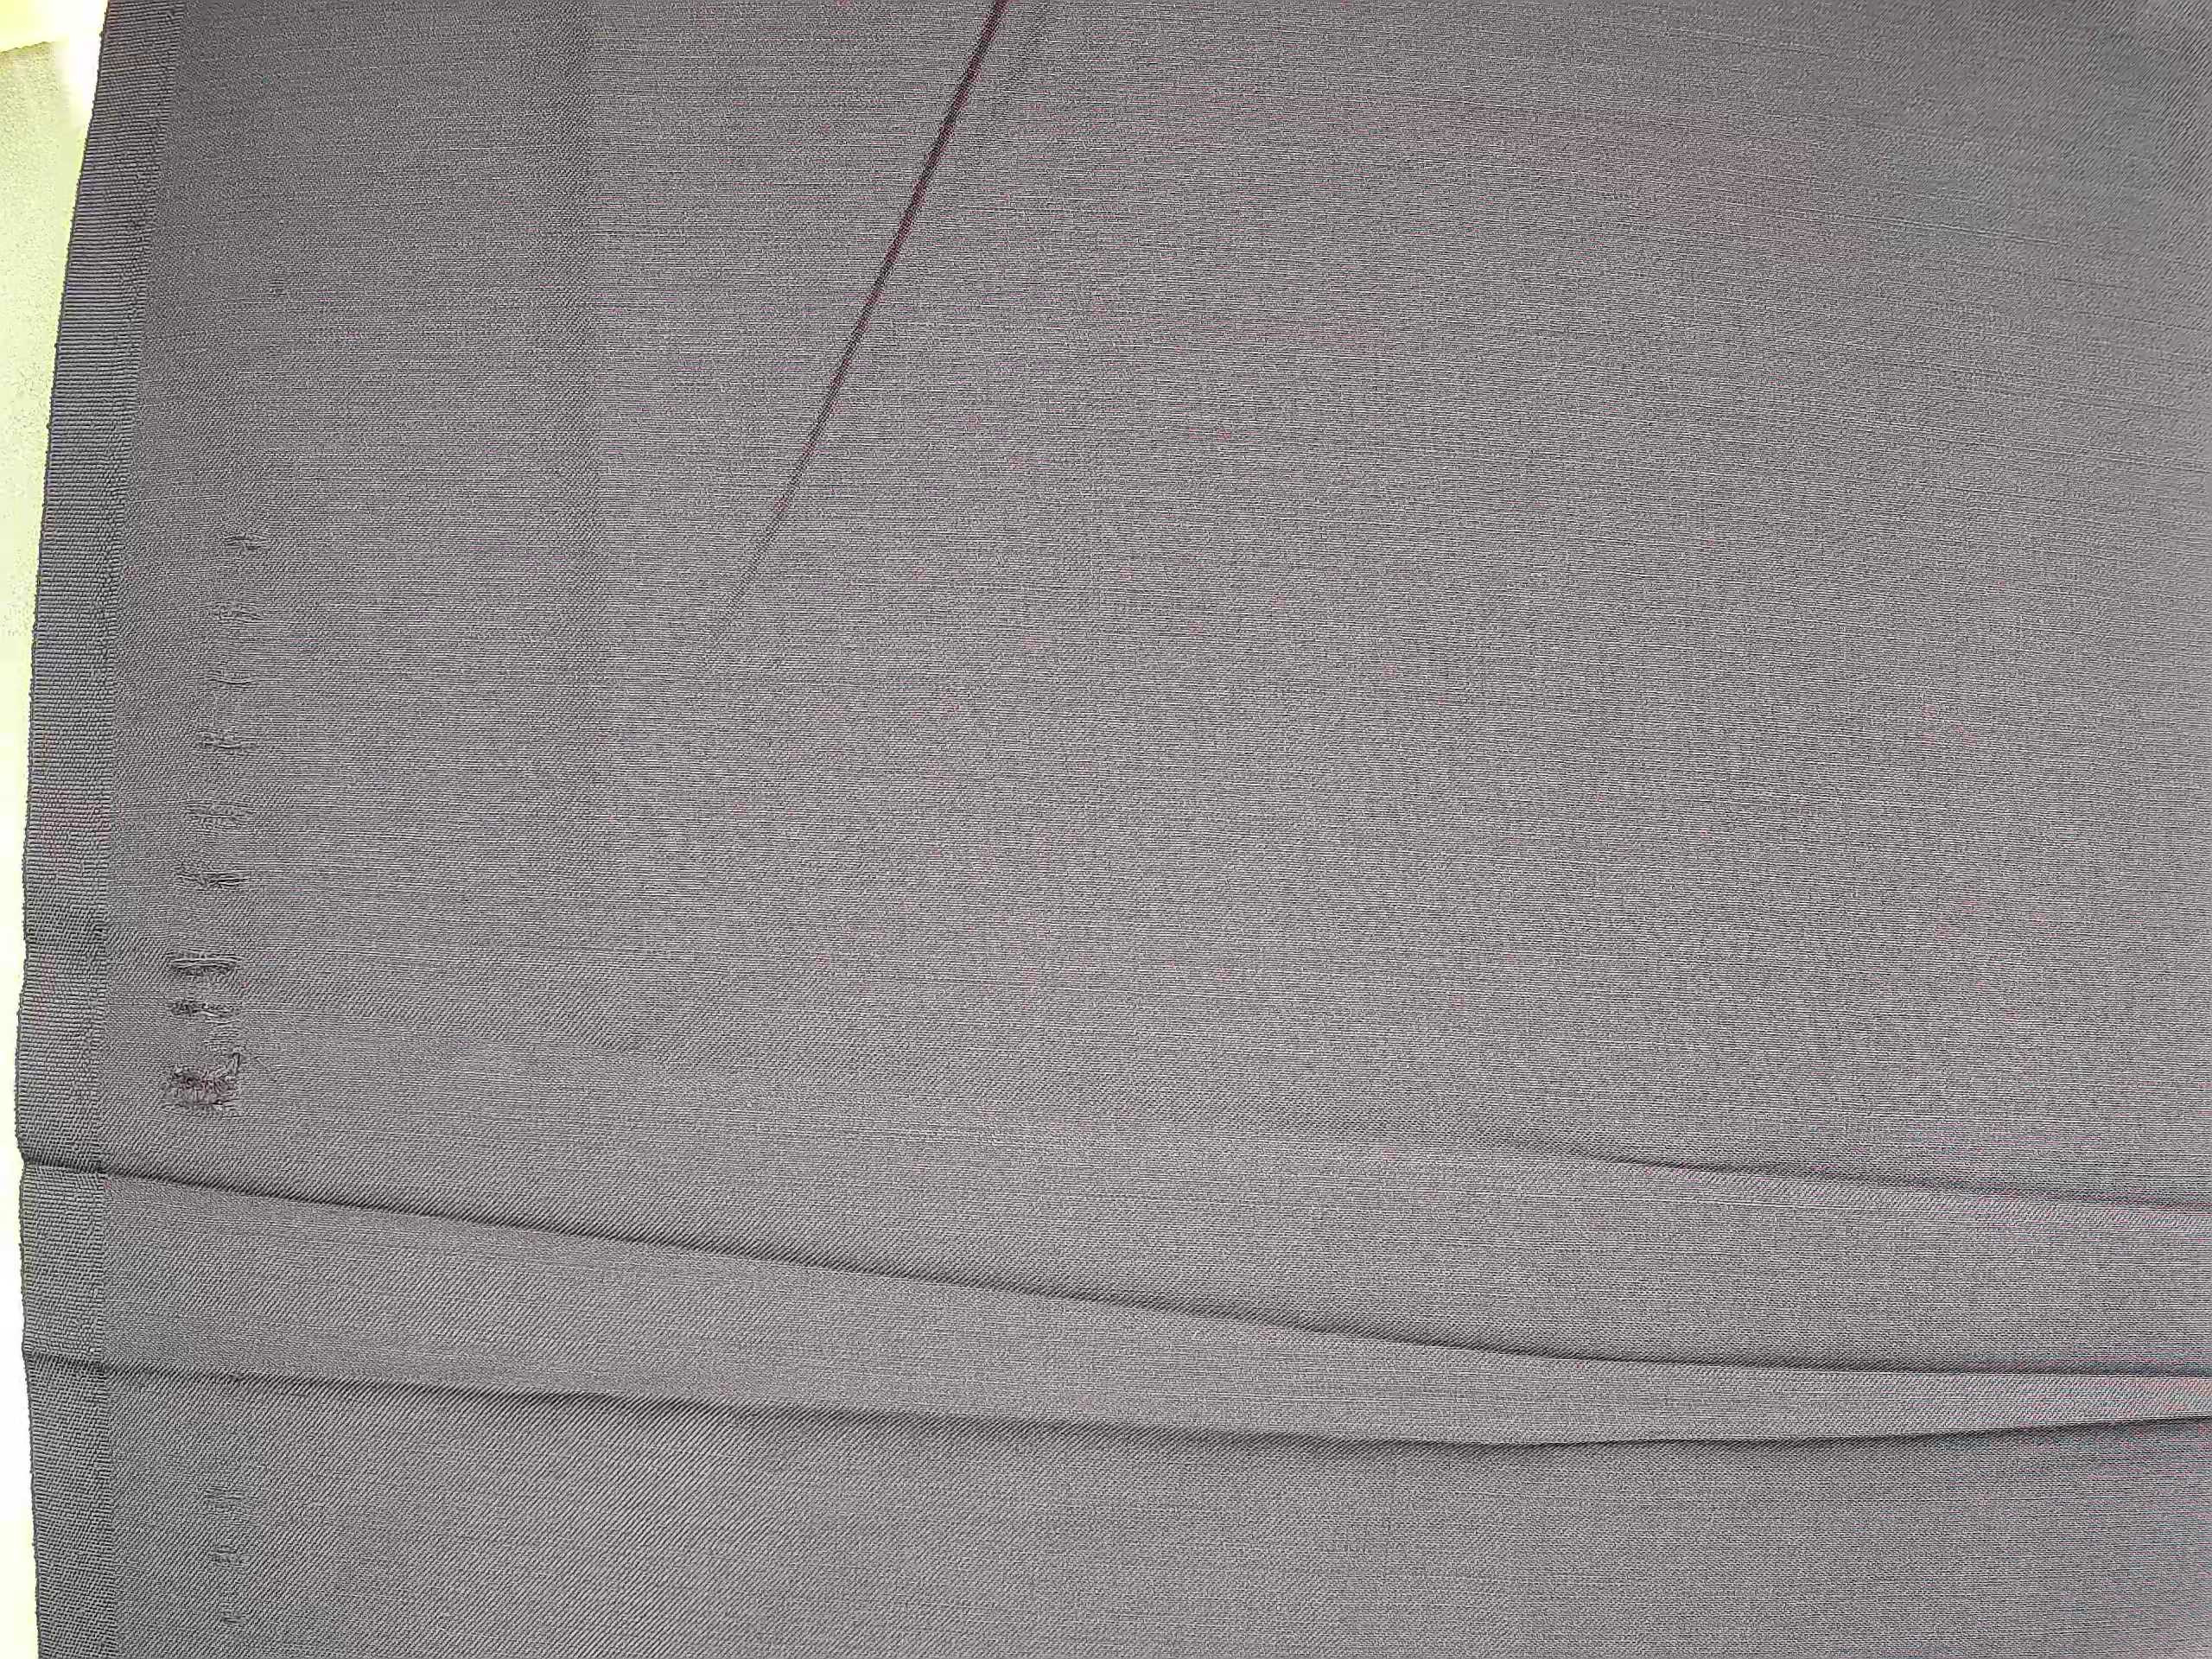puncture-hole: (153, 519, 284, 1138)
